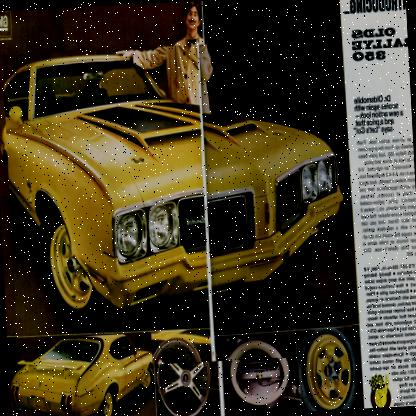Car: (2, 37, 354, 372), (7, 332, 156, 415)
